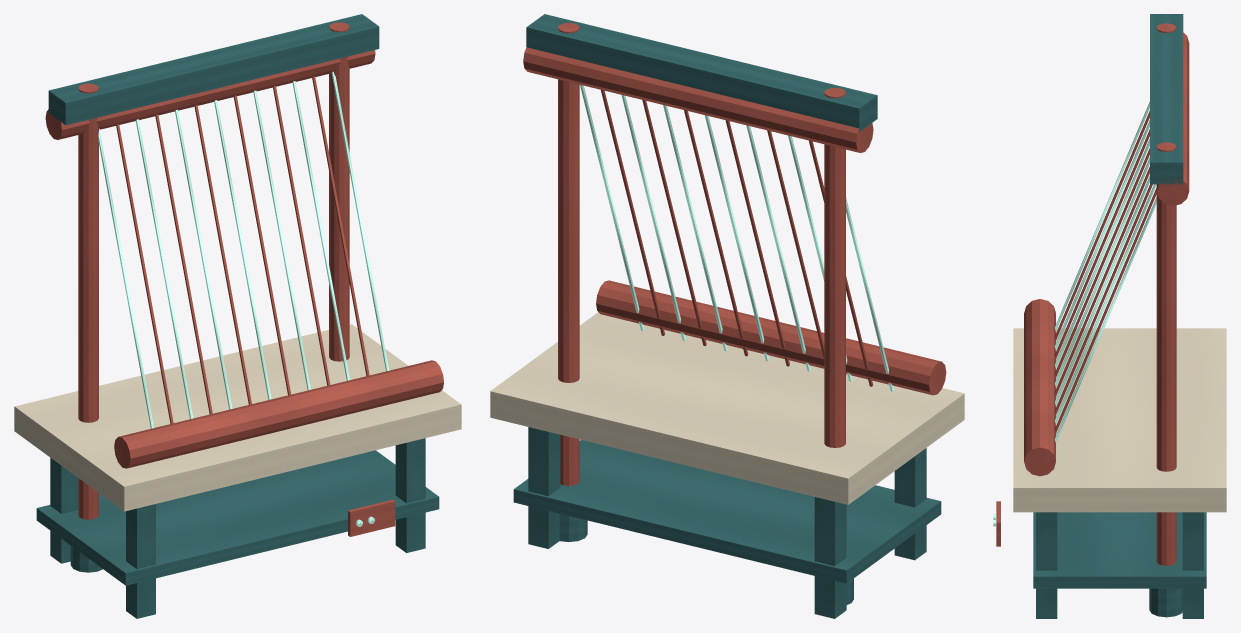
The model's file is atlas100-s037-a01.glb.
3 views of the same model, side by side, from view 1: azimuth 30°, elevation 25°; view 2: azimuth 150°, elevation 25°; view 3: azimuth 270°, elevation 25° (orthographic). The views are drawn at different scales.
Parts seen in each view (by area): view 1: atlas100-s037-a01:part-004, atlas100-s037-a01:part-005, atlas100-s037-a01:part-010, atlas100-s037-a01:part-024, atlas100-s037-a01:part-006, atlas100-s037-a01:part-008, atlas100-s037-a01:part-025, atlas100-s037-a01:part-003, atlas100-s037-a01:part-001, atlas100-s037-a01:part-000, atlas100-s037-a01:part-026, atlas100-s037-a01:part-018 (+12 smaller); view 2: atlas100-s037-a01:part-004, atlas100-s037-a01:part-005, atlas100-s037-a01:part-010, atlas100-s037-a01:part-024, atlas100-s037-a01:part-025, atlas100-s037-a01:part-008, atlas100-s037-a01:part-006, atlas100-s037-a01:part-000, atlas100-s037-a01:part-002, atlas100-s037-a01:part-001, atlas100-s037-a01:part-017, atlas100-s037-a01:part-016 (+12 smaller); view 3: atlas100-s037-a01:part-004, atlas100-s037-a01:part-005, atlas100-s037-a01:part-008, atlas100-s037-a01:part-010, atlas100-s037-a01:part-024, atlas100-s037-a01:part-002, atlas100-s037-a01:part-003, atlas100-s037-a01:part-025, atlas100-s037-a01:part-009, atlas100-s037-a01:part-022, atlas100-s037-a01:part-023, atlas100-s037-a01:part-021 (+10 smaller).
Boxes of the visible parts, x1,y1,x2,y2 form: atlas100-s037-a01:part-004: [14, 324, 461, 511]; atlas100-s037-a01:part-005: [36, 450, 439, 585]; atlas100-s037-a01:part-010: [48, 14, 379, 125]; atlas100-s037-a01:part-024: [114, 360, 443, 468]; atlas100-s037-a01:part-006: [78, 83, 98, 519]; atlas100-s037-a01:part-008: [329, 22, 349, 361]; atlas100-s037-a01:part-025: [45, 50, 375, 139]; atlas100-s037-a01:part-003: [395, 438, 425, 552]; atlas100-s037-a01:part-001: [126, 504, 155, 618]; atlas100-s037-a01:part-000: [50, 458, 78, 563]; atlas100-s037-a01:part-026: [348, 499, 395, 536]; atlas100-s037-a01:part-018: [233, 95, 291, 395]; atlas100-s037-a01:part-004: [490, 312, 964, 504]; atlas100-s037-a01:part-005: [513, 440, 941, 583]; atlas100-s037-a01:part-010: [526, 14, 877, 131]; atlas100-s037-a01:part-024: [596, 280, 946, 395]; atlas100-s037-a01:part-025: [523, 47, 873, 152]; atlas100-s037-a01:part-008: [558, 23, 579, 485]; atlas100-s037-a01:part-006: [824, 88, 845, 447]; atlas100-s037-a01:part-000: [814, 497, 846, 618]; atlas100-s037-a01:part-002: [528, 427, 560, 548]; atlas100-s037-a01:part-001: [894, 448, 926, 560]; atlas100-s037-a01:part-017: [704, 115, 769, 361]; atlas100-s037-a01:part-016: [725, 120, 789, 366]; atlas100-s037-a01:part-004: [1013, 328, 1226, 512]; atlas100-s037-a01:part-005: [1033, 512, 1206, 588]; atlas100-s037-a01:part-008: [1156, 142, 1176, 565]; atlas100-s037-a01:part-010: [1150, 14, 1183, 184]; atlas100-s037-a01:part-024: [1024, 299, 1055, 476]; atlas100-s037-a01:part-002: [1182, 512, 1203, 618]; atlas100-s037-a01:part-003: [1036, 512, 1057, 618]; atlas100-s037-a01:part-025: [1157, 32, 1189, 205]; atlas100-s037-a01:part-009: [1149, 588, 1182, 617]; atlas100-s037-a01:part-022: [1054, 188, 1156, 433]; atlas100-s037-a01:part-023: [1054, 197, 1156, 442]; atlas100-s037-a01:part-021: [1054, 184, 1156, 424].
Bounding box in the file's own units: 2.84 × 3.84 × 1.75.
Materials: 4 (4 with a texture image).
